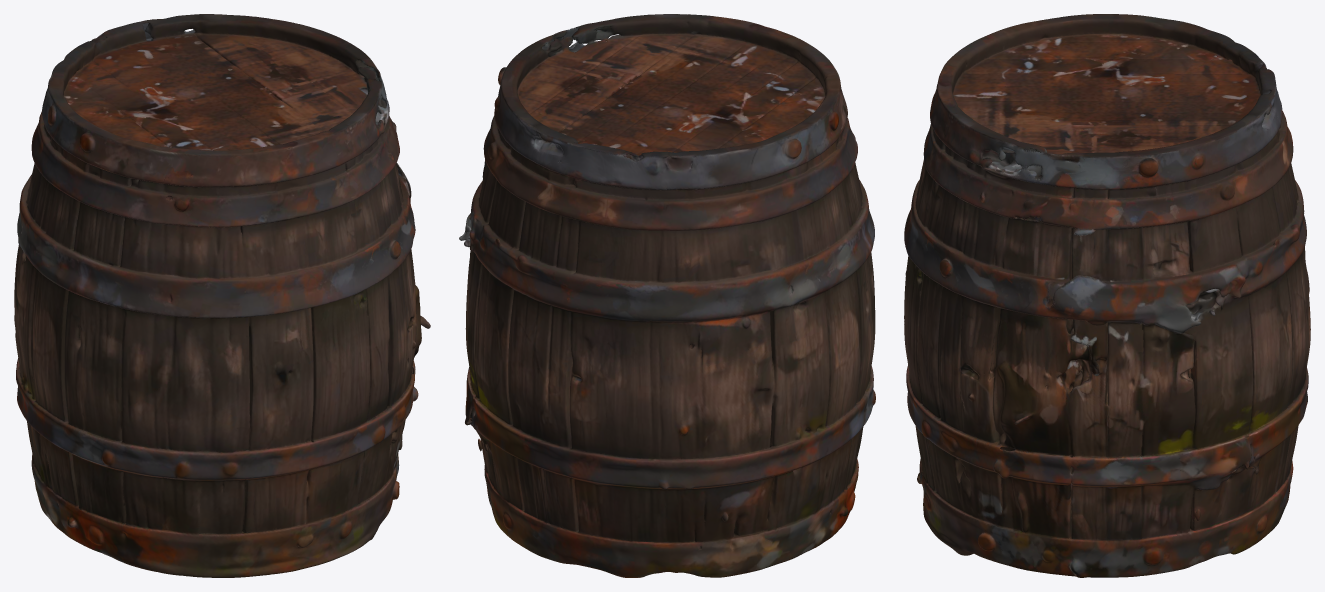
Rendered from barrel.glb.
3 views of the same model, side by side, from view 1: azimuth 30°, elevation 25°; view 2: azimuth 150°, elevation 25°; view 3: azimuth 270°, elevation 25° (orthographic).
Parts seen in each view (by area): view 1: tripo_node_5480e682-7923-4939-beb5-896c3a940333; view 2: tripo_node_5480e682-7923-4939-beb5-896c3a940333; view 3: tripo_node_5480e682-7923-4939-beb5-896c3a940333.
Boxes of the visible parts, x1,y1,x2,y2 form: tripo_node_5480e682-7923-4939-beb5-896c3a940333: (14, 14, 430, 577); tripo_node_5480e682-7923-4939-beb5-896c3a940333: (459, 14, 875, 577); tripo_node_5480e682-7923-4939-beb5-896c3a940333: (904, 14, 1310, 577).
Size of the model in its own units: 0.8738 by 1 by 0.8591.
1 material, 1 textured.
